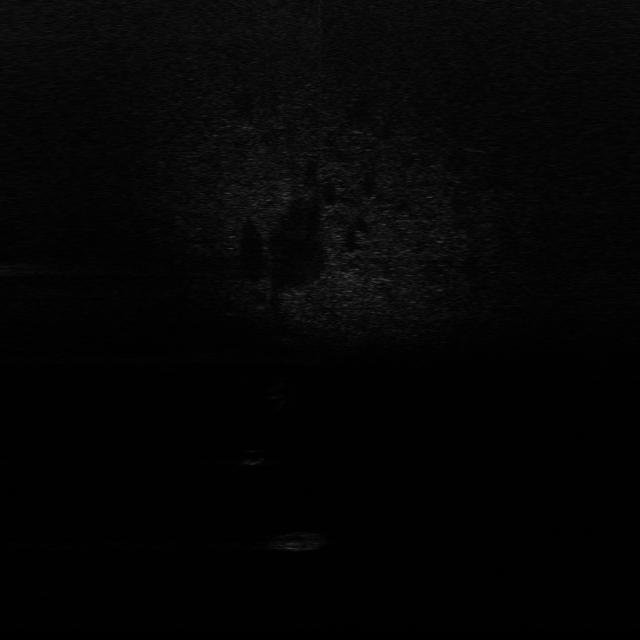ball: (238, 446, 266, 466)
circle cage: (266, 530, 332, 555)
human body: (268, 375, 294, 416)
